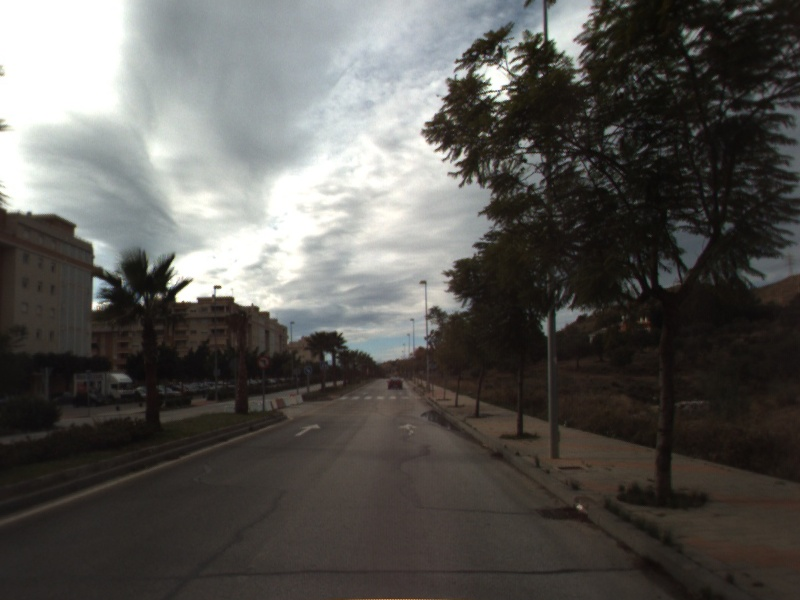STRAIGHT: (293, 422, 323, 438), (396, 421, 420, 438)
